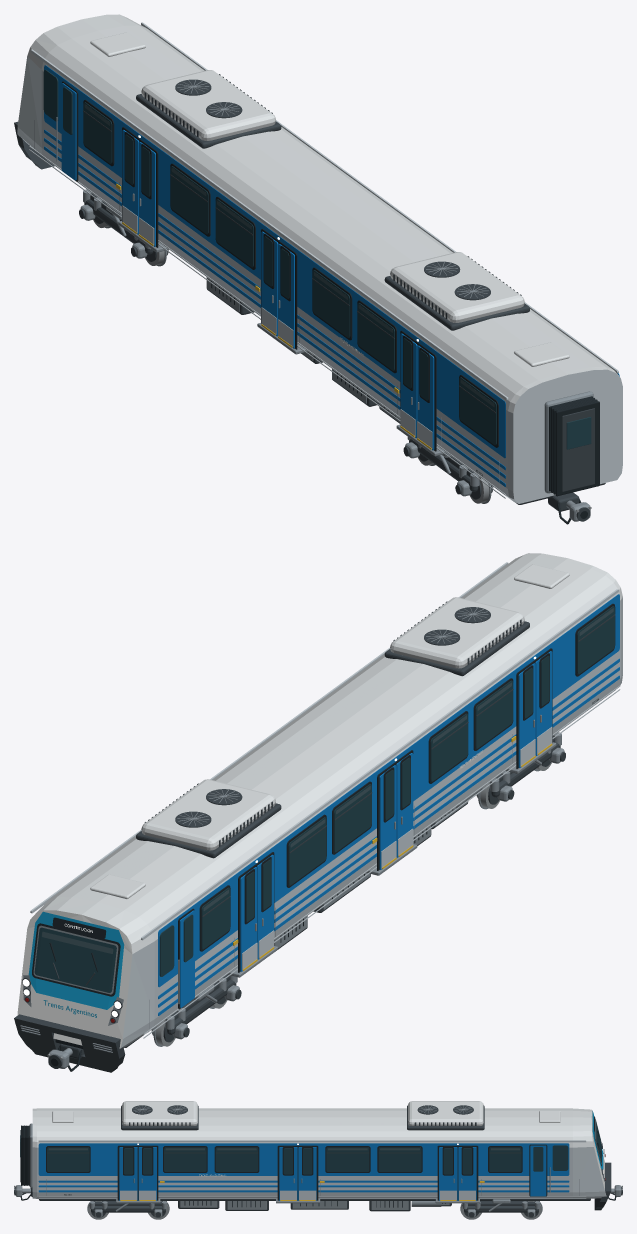
The model's file is tren_argentino_cabina.glb.
3 renders of one model, top to bottom at view 1: azimuth 30°, elevation 25°; view 2: azimuth 150°, elevation 25°; view 3: azimuth 270°, elevation 25°, orthographic. The views are drawn at different scales.
Visible parts, largest first — view 1: Carroceria_y_detalles_Malla, Fuelle_interconexion_Malla, Puerta_I_1_A_Malla, Puerta_I_1_B_Malla, Puerta_I_2_B_Malla, Puerta_I_3_A_Malla, Puerta_I_2_A_Malla, Puerta_I_3_B_Malla, Bastidor_trasero_Malla, Bastidor_delantero_Malla, Acople_trasero_Malla; view 2: Carroceria_y_detalles_Malla, Puerta_I_2_B_Malla, Puerta_I_1_A_Malla, Puerta_I_2_A_Malla, Puerta_I_3_B_Malla, Puerta_I_1_B_Malla, Bastidor_delantero_Malla, Puerta_I_3_A_Malla, Bastidor_trasero_Malla; view 3: Carroceria_y_detalles_Malla, Puerta_D_1_A_Malla, Puerta_D_1_B_Malla, Puerta_D_2_A_Malla, Puerta_D_2_B_Malla, Puerta_D_3_A_Malla, Puerta_D_3_B_Malla, Bastidor_delantero_Malla, Bastidor_trasero_Malla, Fuelle_interconexion_Malla, Acople_trasero_Malla.
Part boxes in pixels (x1,y1,x2,y2): Carroceria_y_detalles_Malla: (14, 14, 622, 504); Fuelle_interconexion_Malla: (544, 391, 599, 496); Puerta_I_1_A_Malla: (417, 345, 434, 450); Puerta_I_1_B_Malla: (400, 333, 417, 438); Puerta_I_2_B_Malla: (261, 231, 278, 336); Puerta_I_3_A_Malla: (138, 142, 155, 246); Puerta_I_2_A_Malla: (278, 244, 294, 348); Puerta_I_3_B_Malla: (122, 130, 139, 234); Bastidor_trasero_Malla: (403, 437, 479, 496); Bastidor_delantero_Malla: (79, 189, 153, 258); Acople_trasero_Malla: (548, 492, 591, 524); Carroceria_y_detalles_Malla: (14, 553, 622, 1072); Puerta_I_2_B_Malla: (379, 765, 396, 869); Puerta_I_1_A_Malla: (535, 651, 552, 755); Puerta_I_2_A_Malla: (396, 753, 413, 857); Puerta_I_3_B_Malla: (240, 867, 257, 971); Puerta_I_1_B_Malla: (518, 663, 535, 767); Bastidor_delantero_Malla: (165, 974, 241, 1039); Puerta_I_3_A_Malla: (257, 854, 274, 959); Bastidor_trasero_Malla: (490, 732, 565, 801); Carroceria_y_detalles_Malla: (32, 1101, 611, 1211); Puerta_D_1_A_Malla: (119, 1146, 137, 1200); Puerta_D_1_B_Malla: (138, 1146, 156, 1200); Puerta_D_2_A_Malla: (279, 1146, 297, 1200); Puerta_D_2_B_Malla: (298, 1146, 316, 1200); Puerta_D_3_A_Malla: (439, 1146, 457, 1200); Puerta_D_3_B_Malla: (458, 1146, 476, 1200); Bastidor_delantero_Malla: (462, 1199, 540, 1217); Bastidor_trasero_Malla: (89, 1201, 167, 1217); Fuelle_interconexion_Malla: (20, 1123, 32, 1187); Acople_trasero_Malla: (14, 1185, 32, 1200).
Bounding box in the file's own units: 3.39 × 4.62 × 25.14.
